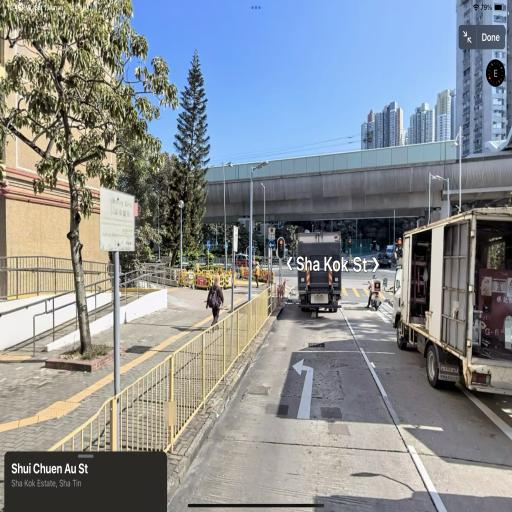Roads: (103, 213, 492, 482)
Trees: (16, 0, 178, 409)
